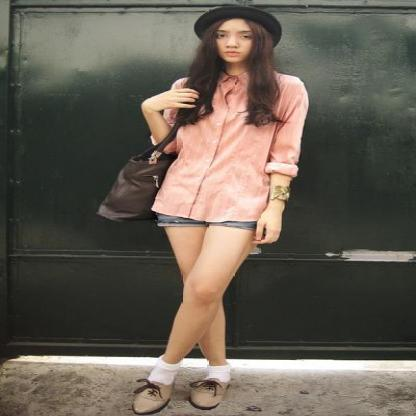bag: (97, 116, 193, 232)
hat: (194, 0, 281, 35)
shirt: (151, 73, 308, 222)
shoe: (133, 378, 241, 412)
shorts: (157, 214, 257, 233)
